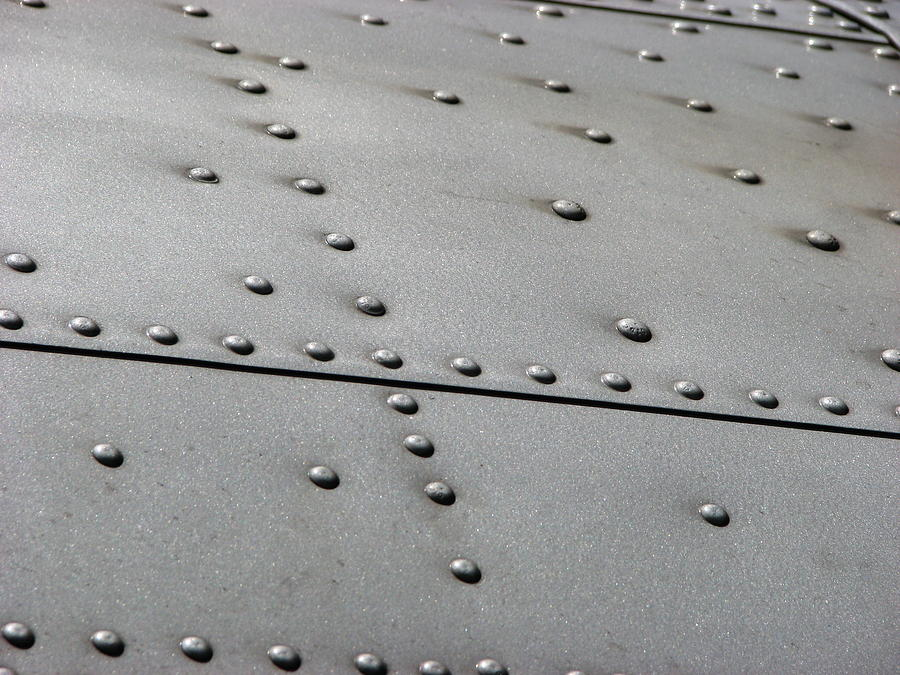rivet: (1, 610, 42, 655), (261, 638, 307, 673), (176, 630, 220, 666), (444, 555, 488, 587), (614, 312, 655, 346), (88, 624, 128, 658), (399, 430, 440, 462), (302, 459, 343, 491), (381, 389, 424, 419), (87, 440, 127, 472), (696, 497, 733, 531), (421, 477, 460, 509), (803, 223, 843, 254), (548, 193, 588, 224), (219, 328, 259, 359), (144, 318, 181, 351), (669, 374, 707, 406), (742, 384, 782, 414), (291, 171, 331, 201), (349, 292, 389, 320), (445, 350, 482, 380), (264, 118, 302, 147), (814, 390, 853, 418), (238, 270, 277, 298), (67, 312, 103, 342), (3, 247, 39, 277), (598, 365, 632, 396), (522, 359, 558, 388), (372, 344, 404, 375), (321, 229, 359, 255), (352, 647, 387, 675), (727, 163, 766, 188), (301, 339, 338, 365), (578, 124, 617, 148), (235, 75, 271, 101), (1, 301, 27, 335), (537, 75, 574, 98), (429, 85, 463, 110), (185, 163, 220, 186), (634, 43, 667, 67), (494, 28, 528, 51), (273, 51, 307, 74), (354, 9, 390, 30), (684, 92, 714, 117), (869, 40, 900, 64), (209, 36, 240, 60), (770, 62, 802, 85), (803, 34, 834, 57), (181, 2, 212, 25), (414, 656, 449, 675), (878, 343, 900, 373), (824, 112, 854, 133), (667, 18, 698, 38), (703, 2, 735, 21), (860, 3, 893, 21), (534, 3, 566, 21), (803, 2, 834, 19), (748, 2, 778, 19), (833, 17, 861, 33)
